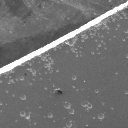corrosion: (63, 101, 73, 110), (28, 68, 37, 77), (53, 89, 64, 96), (80, 99, 88, 108), (65, 121, 75, 128), (19, 94, 27, 101), (97, 112, 105, 119), (81, 34, 89, 41), (19, 111, 26, 118), (7, 78, 14, 85), (25, 113, 31, 120), (69, 109, 76, 115), (46, 114, 54, 119), (44, 64, 52, 69), (40, 57, 48, 62), (71, 75, 77, 81), (87, 104, 94, 109), (18, 76, 25, 81), (43, 86, 49, 91), (91, 115, 96, 120), (94, 89, 99, 94), (90, 50, 95, 55), (121, 37, 126, 42), (55, 69, 61, 73), (97, 44, 102, 48), (116, 24, 121, 28), (71, 48, 76, 52), (28, 83, 33, 87), (4, 102, 8, 107), (4, 90, 9, 94), (106, 26, 110, 31), (75, 54, 79, 58), (64, 42, 69, 45), (115, 72, 118, 75)
